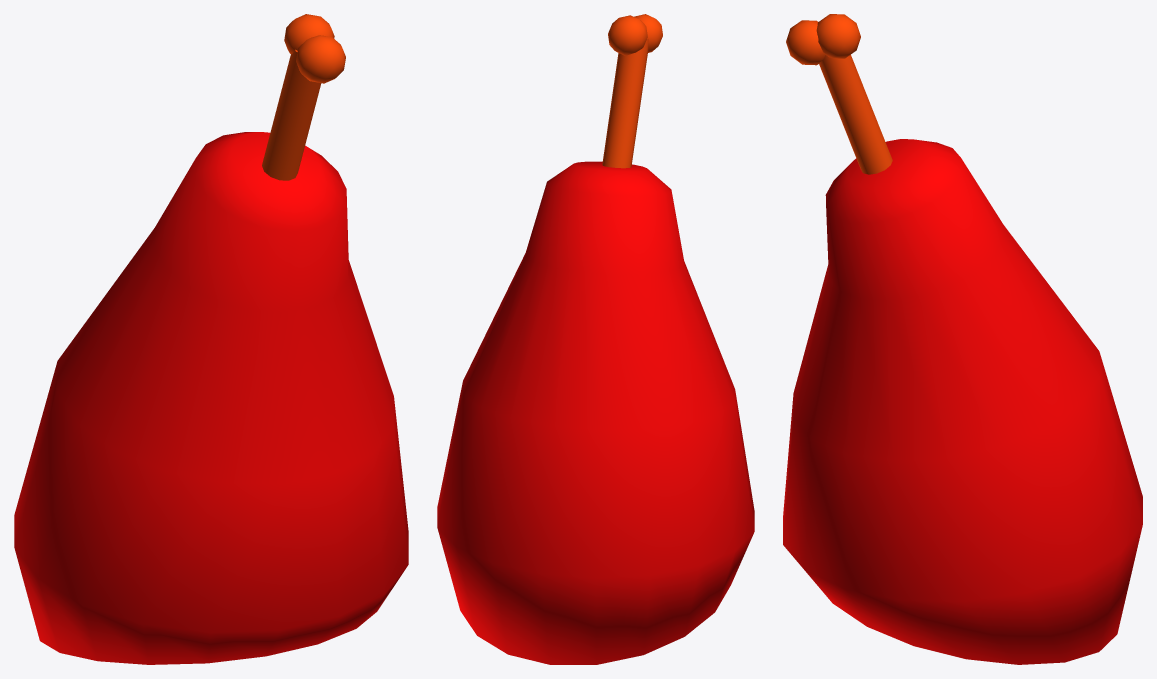
Rendered from Jambon.FBX.
3 renders of one model, left to right at view 1: azimuth 30°, elevation 25°; view 2: azimuth 150°, elevation 25°; view 3: azimuth 270°, elevation 25°, orthographic. The views are drawn at different scales.
Parts seen in each view (by area): view 1: Jambon001; view 2: Jambon001; view 3: Jambon001.
Boxes of the visible parts, x1=… form: Jambon001: x1=14, y1=14, x2=408, y2=664; Jambon001: x1=437, y1=14, x2=754, y2=664; Jambon001: x1=783, y1=14, x2=1142, y2=664.
Size of the model in its own units: 15.28 by 28.58 by 15.02.
